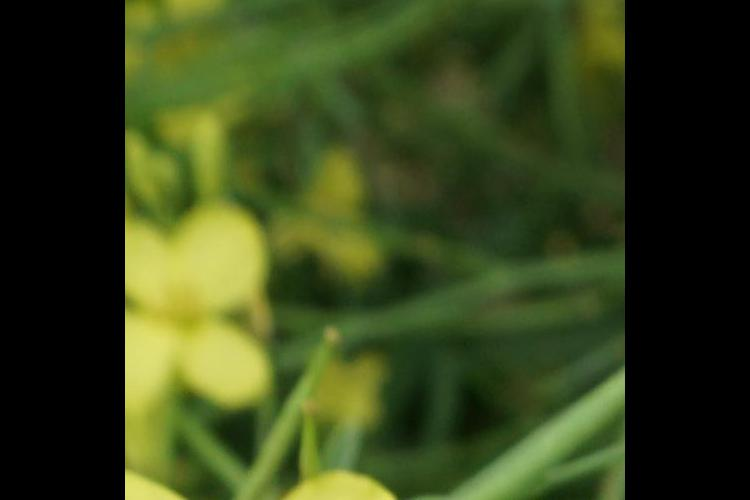yellow: (131, 203, 275, 407)
